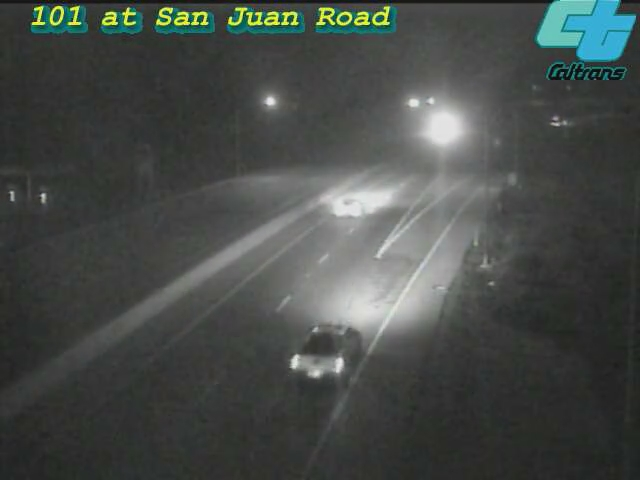vehicle: (272, 300, 382, 410), (306, 168, 386, 248), (416, 104, 466, 154), (533, 95, 583, 145)
